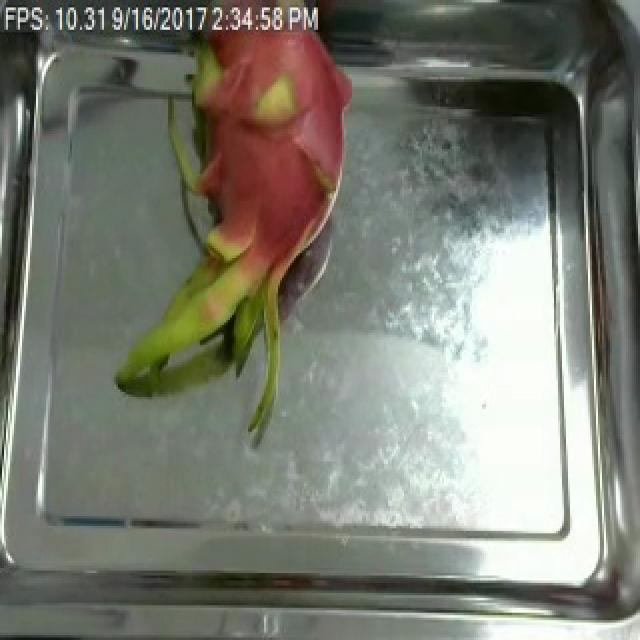fruit: (124, 2, 358, 417)
